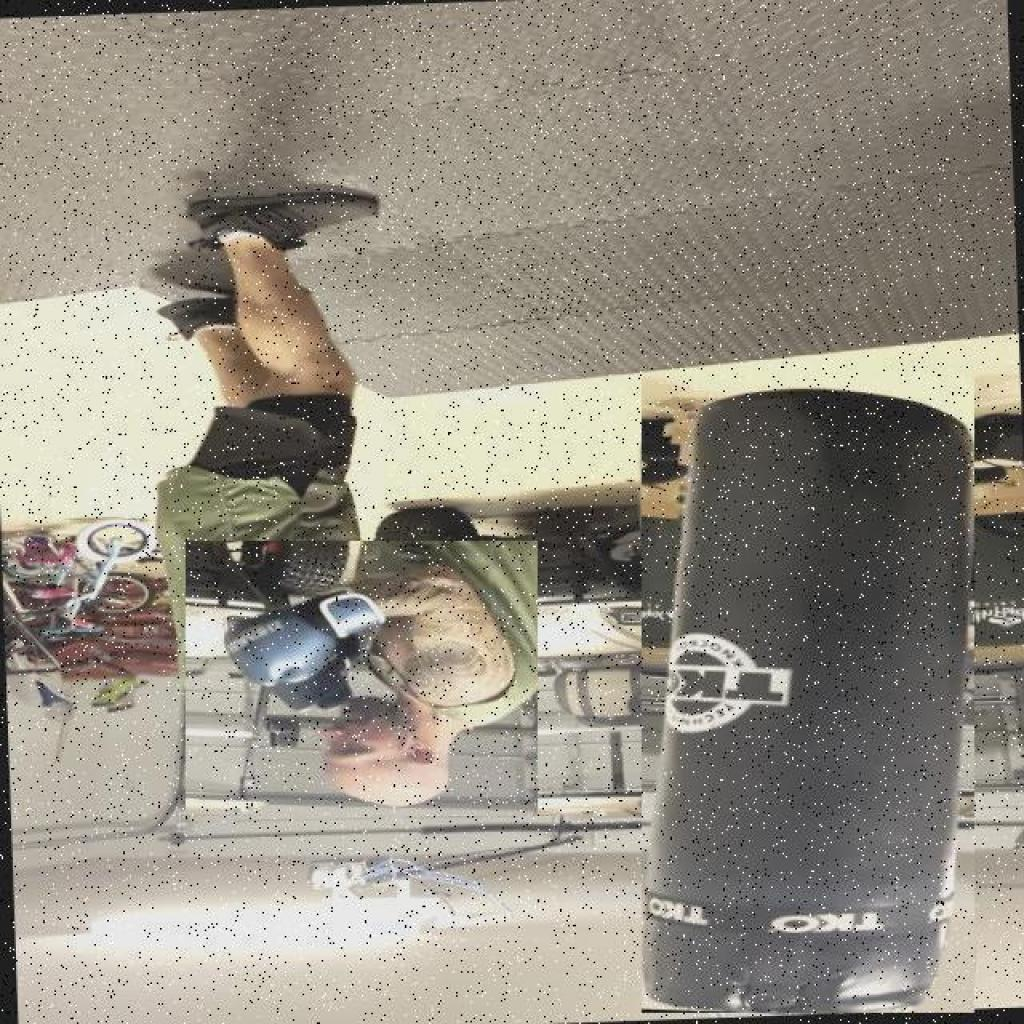bag: (642, 373, 974, 1013)
no punch: (186, 541, 538, 817)
